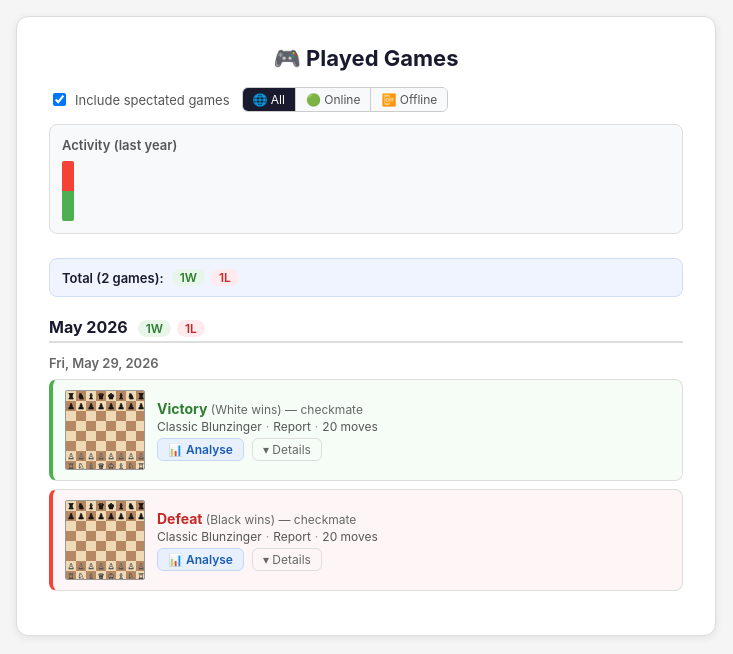
Test case: PlayedGamesSection › connection filter (online/offline) › shows only online games when "Online" is selected
# Click "Online" filter
Click the radio button labelled "🟢 Online" at (334, 100), box top-left (296, 88), bottom-right (371, 111)
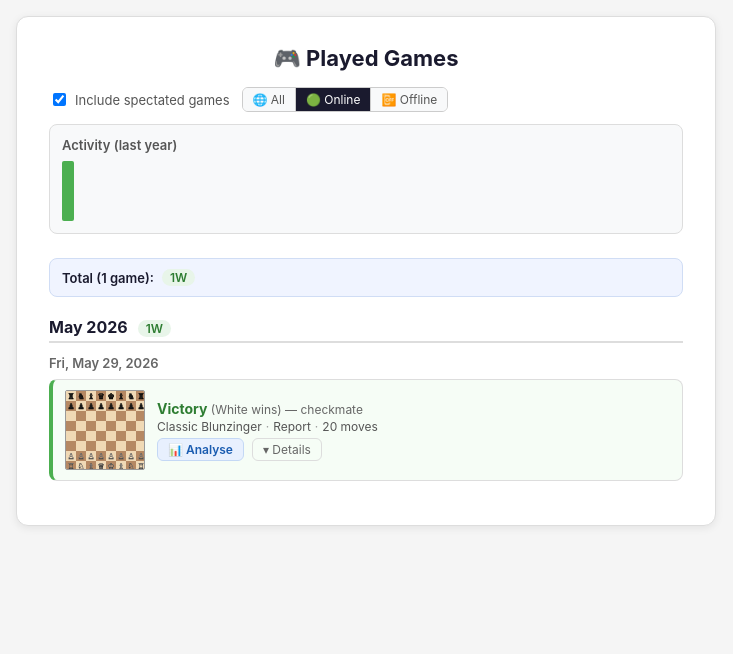
Expected: the text "Victory" is shown, top-left (157, 400), bottom-right (207, 416)
Expected: the text "Total (1 game):" is shown, top-left (62, 270), bottom-right (154, 286)
